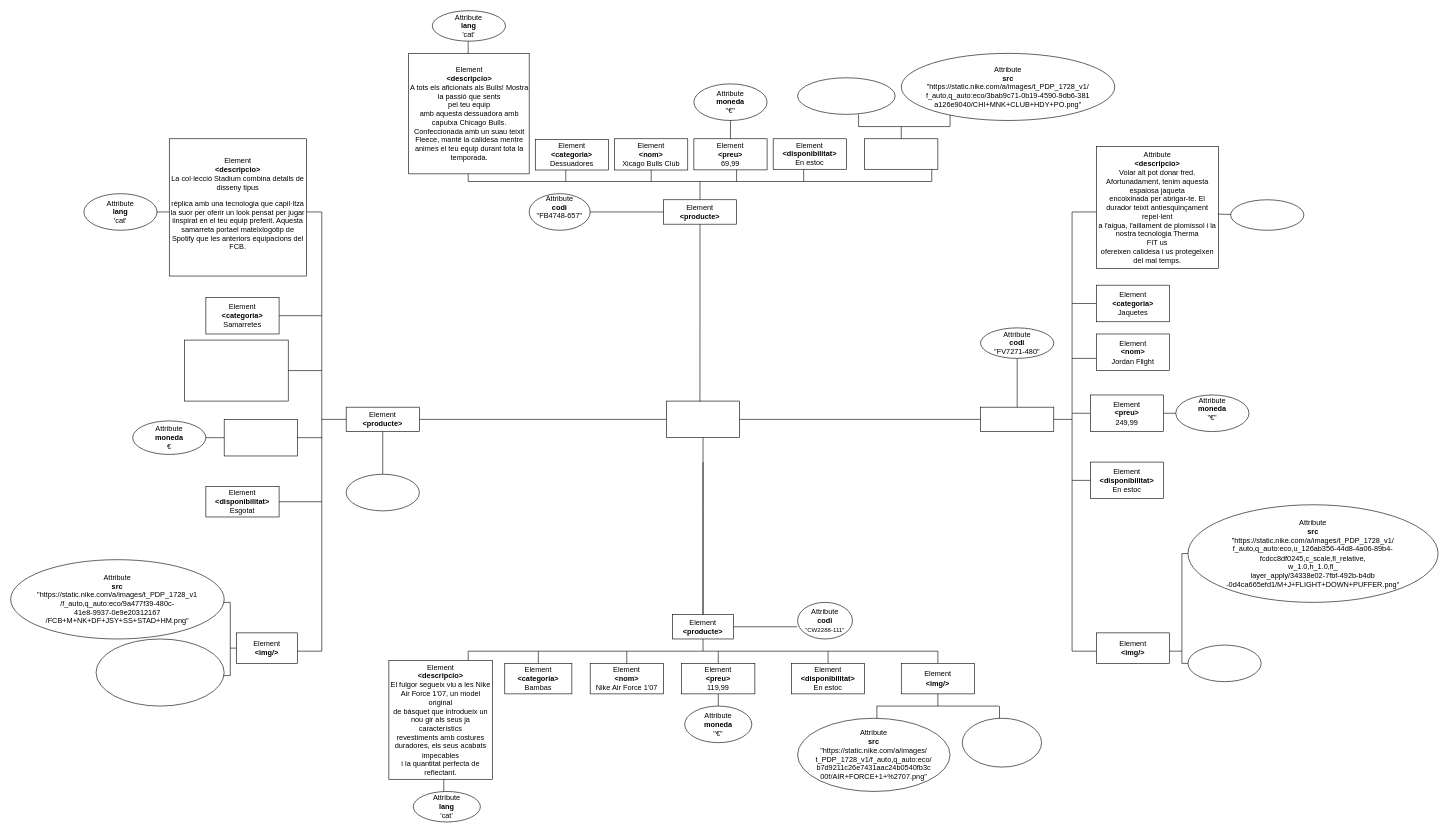
Image size: 1449x833. Some labels were removed from this diagram. The shapes that lost their labels are listed below. From the top down, each one's centre as x and y in pixels, then its label:
(x=846, y=95): Attribute alt "Xicago Bulls Club"
(x=901, y=153): Element </img>
(x=1267, y=214): Attrinute lang 'cat'
(x=236, y=370): Element <nom> Primer equipament Stadium FC Barcelona 2024/25
(x=260, y=437): Element <preu> 99,99
(x=703, y=419): Root element <botiga_nike>
(x=1017, y=419): Element <produce>
(x=382, y=492): Attribute codi " FN8797-456"
(x=159, y=672): Attribute alt "Primer equipament Stadium FC Barcelona 2024/25"
(x=1224, y=663): Attribute alt Jordan Flight
(x=1002, y=742): Attribute alt "Nike Air Force 1'07"
